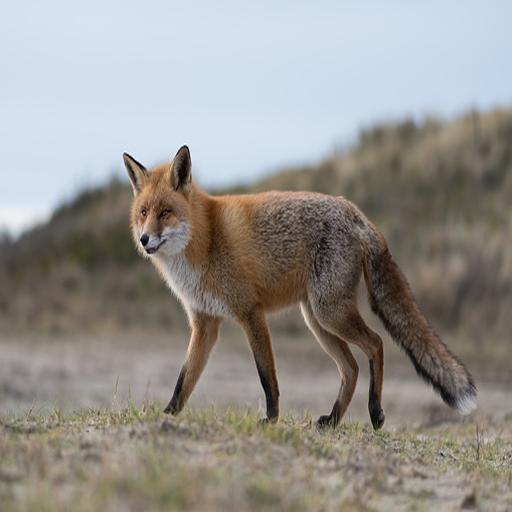Fox: (118, 140, 483, 433)
